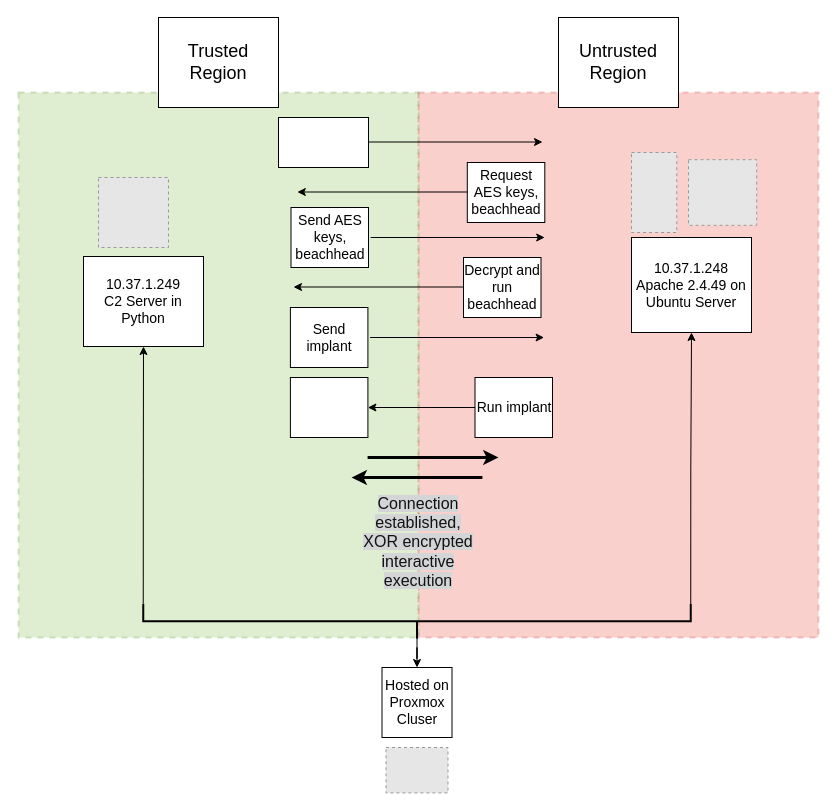
The diagram is 836 pixels wide and 811 high, and some of its shapes have lost their labels. Grey dashed boxes stand in for pictures. Each missing label, with the box of its shape:
Receive connection: (289, 376, 368, 438)
Trigger the exploit: (278, 116, 368, 168)
